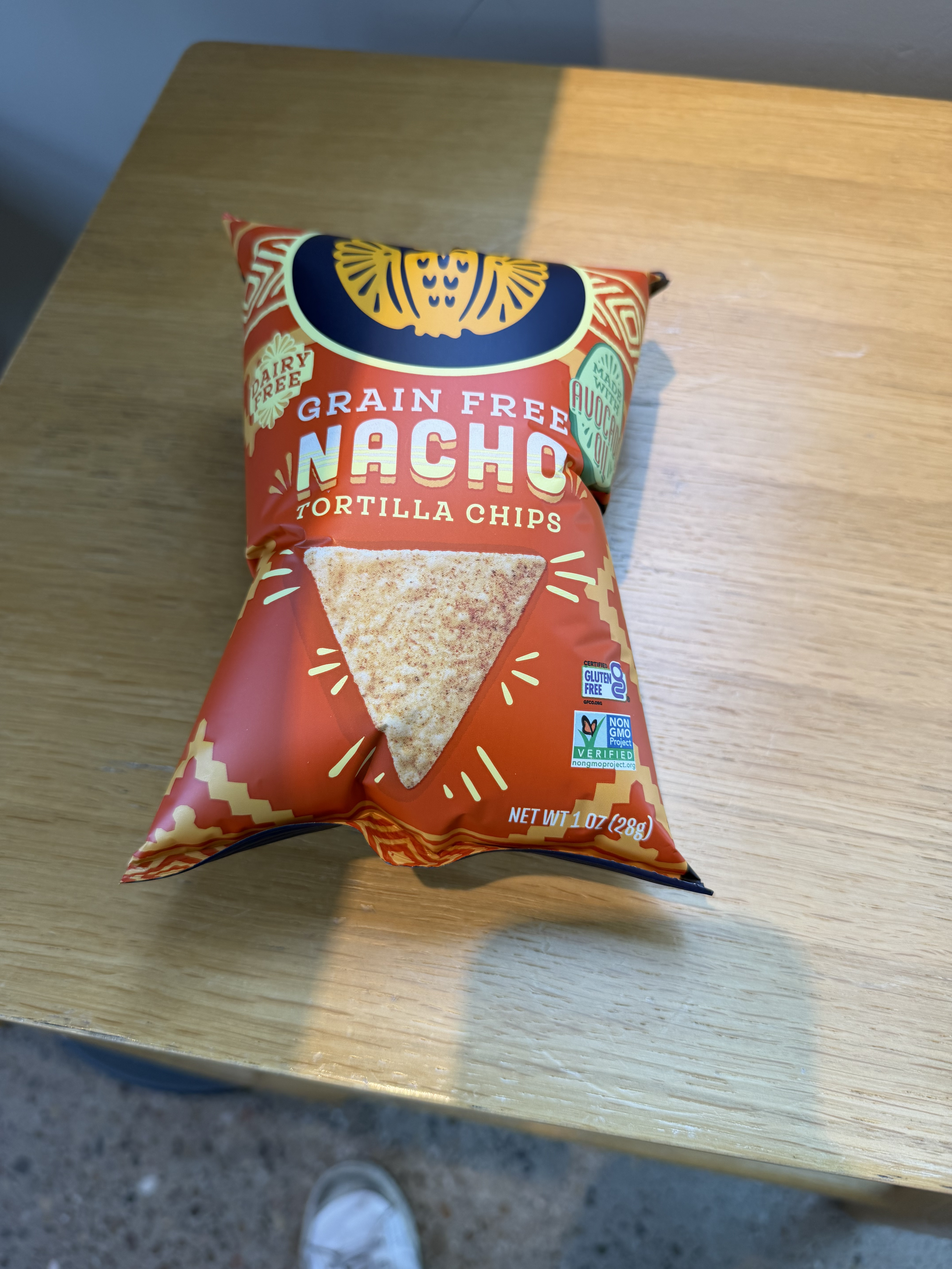nacho: (169, 186, 713, 922)
